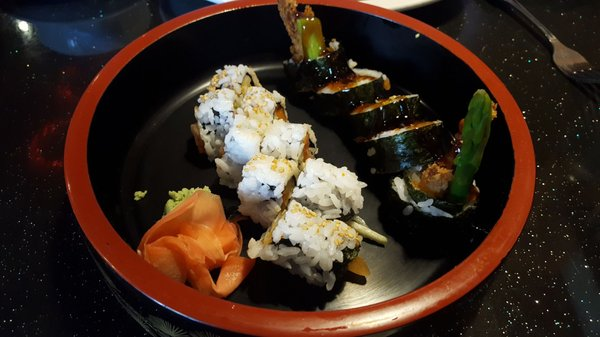sushi: (64, 4, 585, 333)
